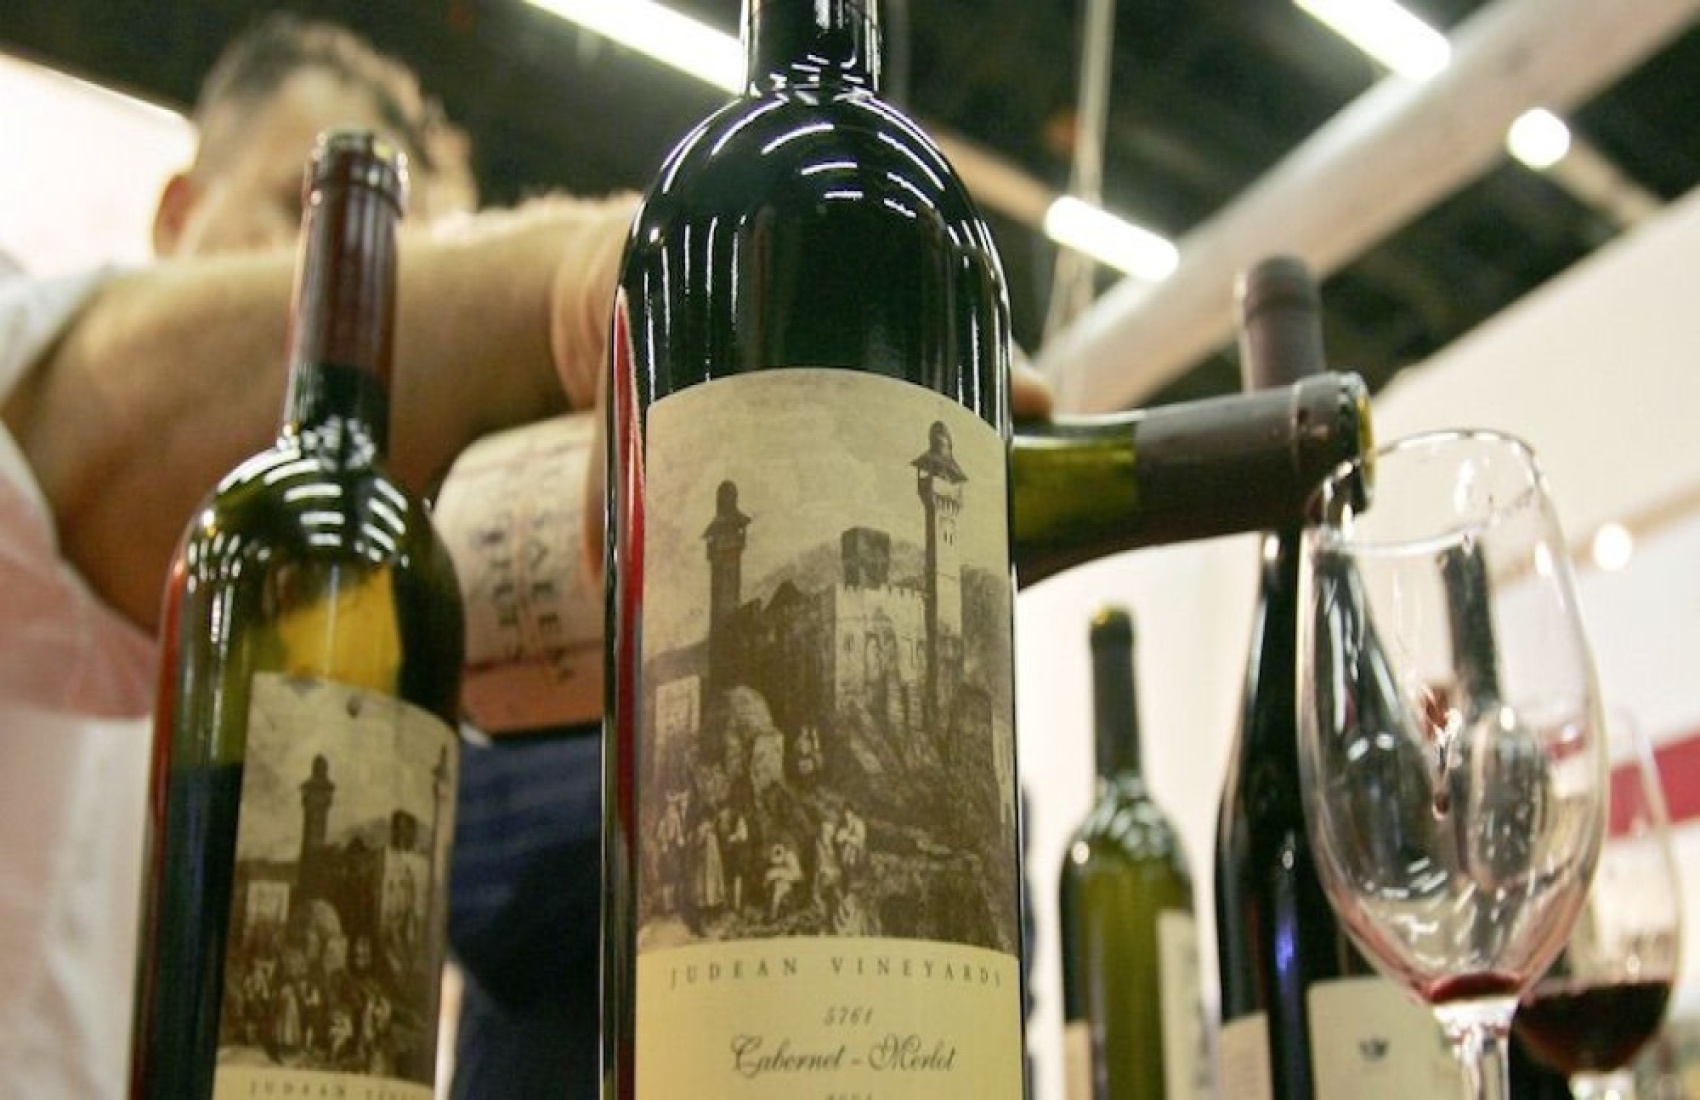wine: (606, 57, 1023, 1100), (150, 64, 442, 1100)
